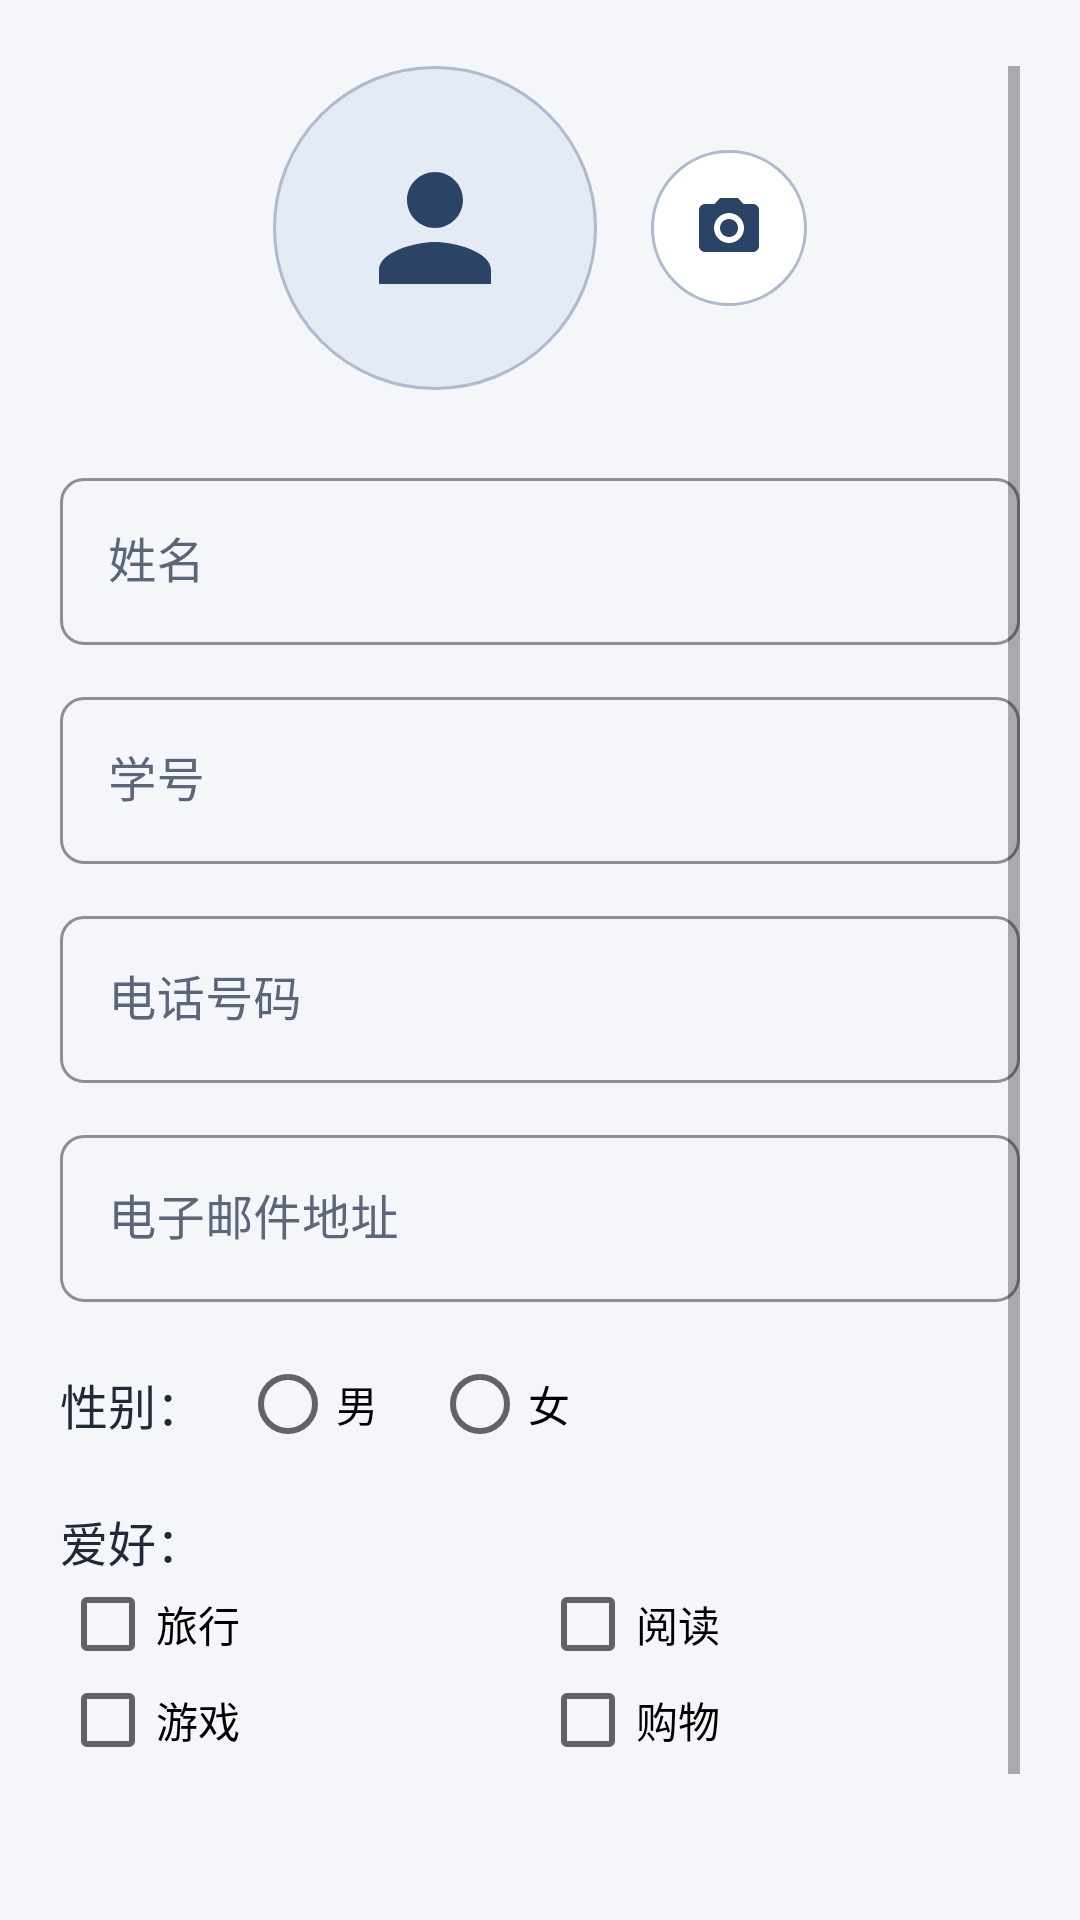

Where to tap for icons on this 1080 × 1920 app screen, as (x,y):
选择头像: (729,228)
